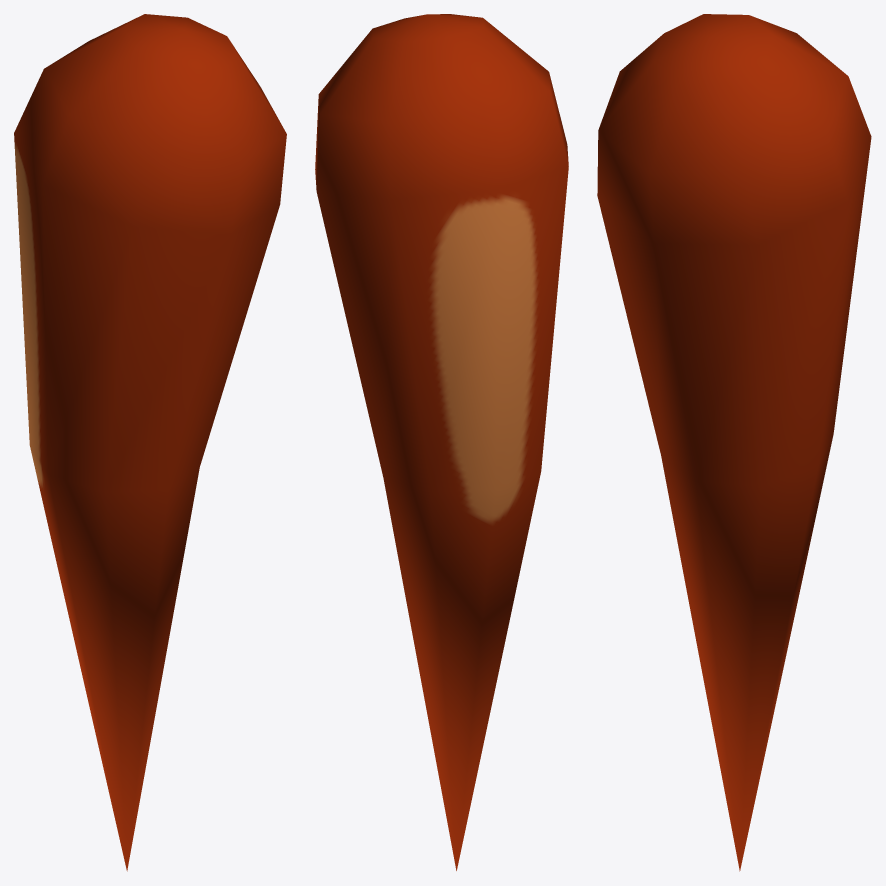
File: Spider_002_Foot_001_R.fbx
3 views of the same model, side by side, from view 1: azimuth 30°, elevation 25°; view 2: azimuth 150°, elevation 25°; view 3: azimuth 270°, elevation 25° (orthographic). The views are drawn at different scales.
Visible parts, largest first — view 1: Foot_001_R; view 2: Foot_001_R; view 3: Foot_001_R.
Part boxes in pixels (x1=…): Foot_001_R: x1=14, y1=14, x2=286, y2=871; Foot_001_R: x1=315, y1=14, x2=568, y2=870; Foot_001_R: x1=597, y1=14, x2=871, y2=871.
Size of the model in its own units: 5.11 by 17.51 by 5.07.
